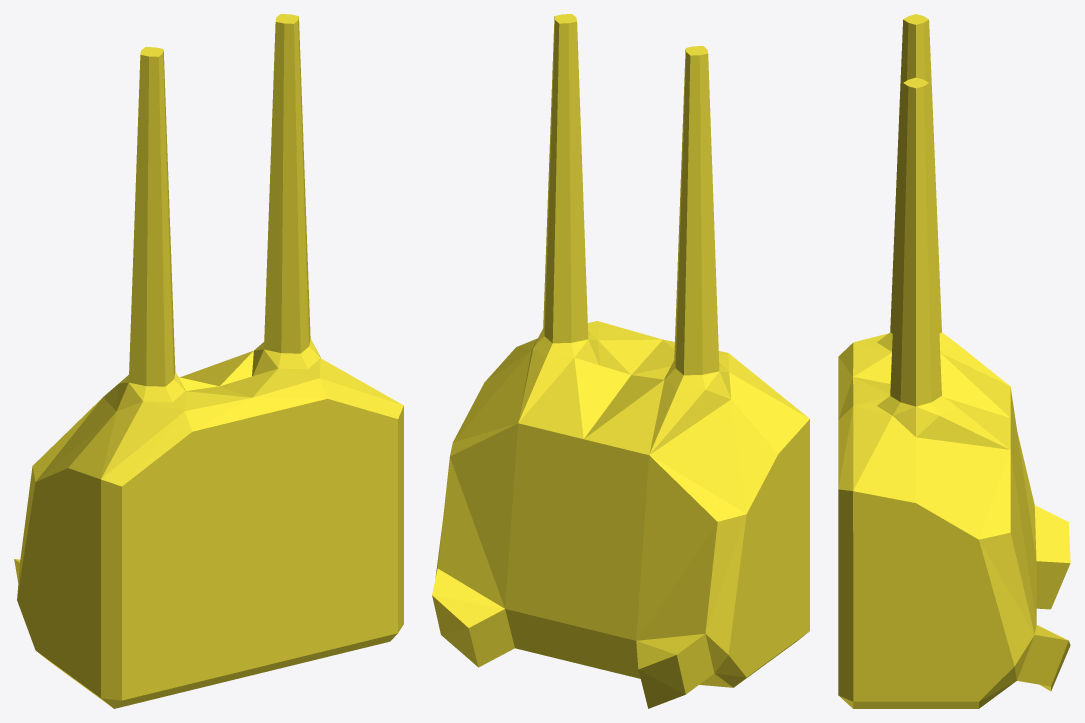
The model's file is WW_Turret_100mm_Twin_PMK.fbx.
3 renders of one model, left to right at view 1: azimuth 30°, elevation 25°; view 2: azimuth 150°, elevation 25°; view 3: azimuth 270°, elevation 25°, orthographic. The views are drawn at different scales.
Parts seen in each view (by area): view 1: WW_Turret_100mm_Twin_PMK.001; view 2: WW_Turret_100mm_Twin_PMK.001; view 3: WW_Turret_100mm_Twin_PMK.001.
Part boxes in pixels (box(x1,y1,x2,y2)): WW_Turret_100mm_Twin_PMK.001: box(14, 14, 403, 708); WW_Turret_100mm_Twin_PMK.001: box(432, 14, 809, 708); WW_Turret_100mm_Twin_PMK.001: box(838, 14, 1070, 708).
Size of the model in its own units: 5.2 by 10.21 by 3.59.
